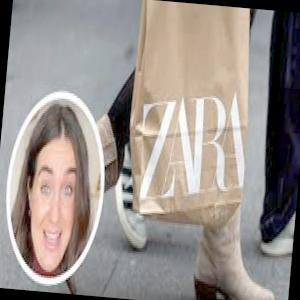zara: (133, 89, 251, 210)
